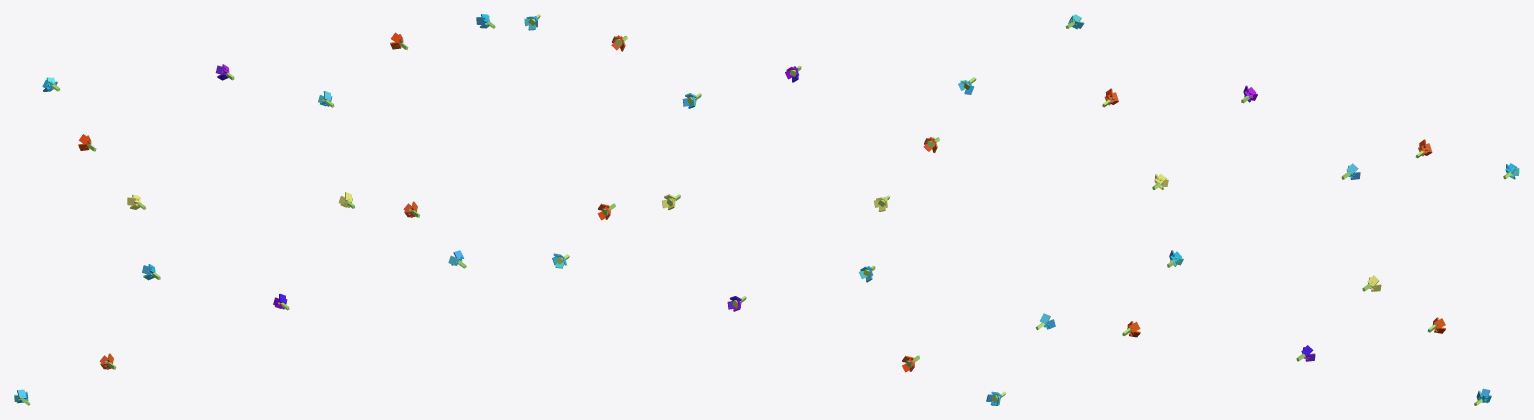
Rendered from flowers.dae.
The picture shows the model from 3 angles, left to right: view 1: azimuth 30°, elevation 25°; view 2: azimuth 150°, elevation 25°; view 3: azimuth 330°, elevation 25°; orthographic projection.
Bounding box in the file's own units: 16.85 × 0.6309 × 10.8.
